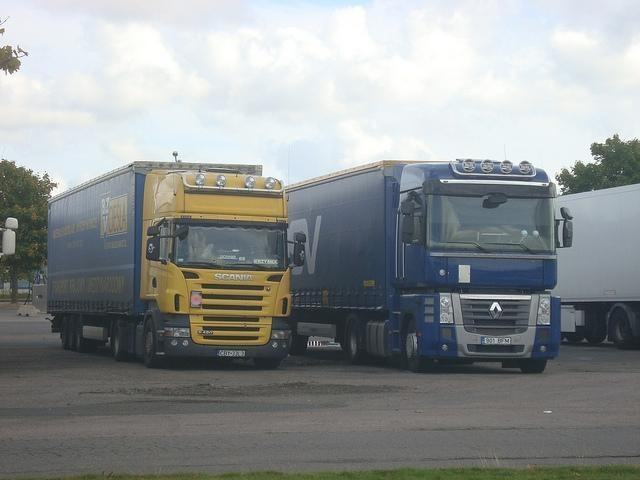truck: (292, 158, 575, 376), (49, 161, 307, 368), (554, 186, 640, 348)
